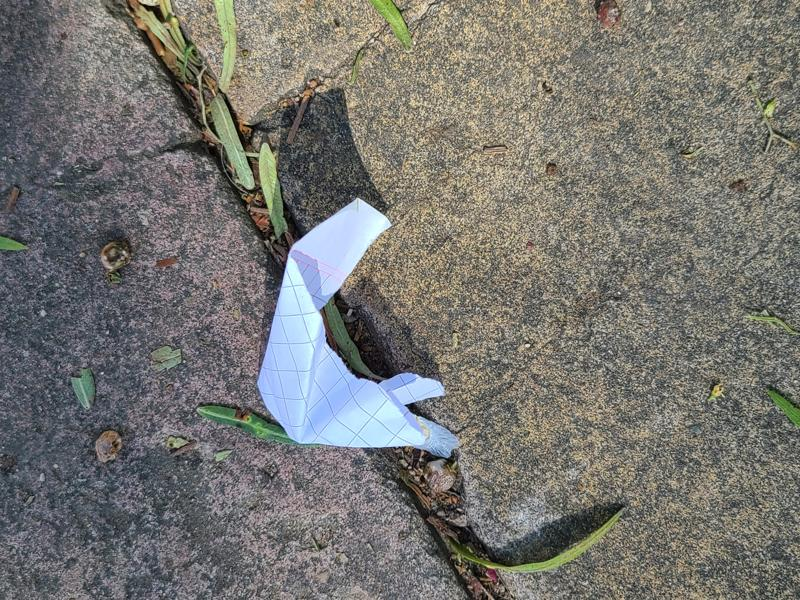papel: (256, 200, 459, 461)
